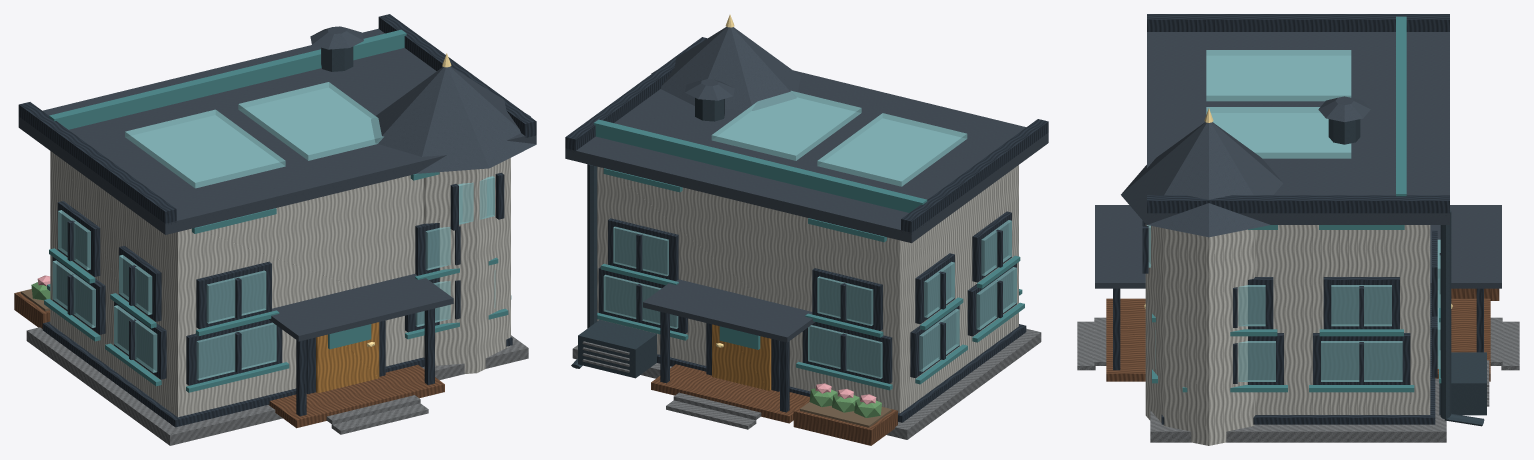
Rendered from house_modern_lv4_tower.glb.
3 renders of one model, left to right at view 1: azimuth 30°, elevation 25°; view 2: azimuth 150°, elevation 25°; view 3: azimuth 270°, elevation 25°, orthographic. The views are drawn at different scales.
Parts seen in each view (by area): view 1: walls, flat_roof, tower, tower_roof, solar_panel, solar_panel.001, front_porch_canopy, foundation, roof_terrace, front_deck, front_window_frame, parapet (+32 smaller); view 2: walls, flat_roof, tower_roof, solar_panel, solar_panel.001, roof_terrace, back_porch_canopy, back_window_frame, back_deck, foundation, parapet, back_ac_unit (+37 smaller); view 3: flat_roof, tower, walls, tower_roof, solar_panel, solar_panel.001, parapet.001, parapet, foundation, back_porch_canopy, right_window_frame.001, front_porch_canopy (+26 smaller).
Part boxes in pixels (x1,y1,x2,y2): walls: [50, 151, 423, 417]; flat_roof: [18, 28, 536, 234]; tower: [423, 158, 510, 373]; tower_roof: [371, 66, 536, 173]; solar_panel: [125, 109, 285, 188]; solar_panel.001: [238, 82, 383, 160]; front_porch_canopy: [269, 274, 453, 341]; foundation: [26, 327, 528, 445]; roof_terrace: [49, 29, 406, 129]; front_deck: [268, 365, 444, 428]; front_window_frame: [186, 319, 282, 385]; parapet: [18, 102, 176, 224]; walls: [597, 165, 1018, 413]; flat_roof: [565, 70, 1048, 243]; tower_roof: [651, 26, 800, 110]; solar_panel: [817, 113, 967, 186]; solar_panel.001: [711, 90, 861, 160]; roof_terrace: [594, 119, 927, 212]; back_porch_canopy: [643, 279, 814, 342]; back_window_frame: [802, 322, 892, 383]; back_deck: [651, 364, 809, 423]; foundation: [572, 328, 1041, 439]; parapet: [901, 119, 1048, 234]; back_ac_unit: [578, 320, 656, 378]; flat_roof: [1147, 32, 1449, 224]; tower: [1145, 224, 1255, 445]; walls: [1255, 225, 1430, 414]; tower_roof: [1121, 122, 1283, 237]; solar_panel: [1206, 50, 1351, 101]; solar_panel.001: [1206, 107, 1351, 158]; parapet.001: [1147, 195, 1449, 213]; parapet: [1147, 14, 1449, 31]; foundation: [1150, 378, 1446, 442]; back_porch_canopy: [1430, 205, 1501, 288]; right_window_frame.001: [1313, 333, 1410, 384]; front_porch_canopy: [1095, 205, 1145, 288].
Bounding box in the file's own units: 6.6 × 4.75 × 6.19.
Materials: 13 (7 with a texture image).
